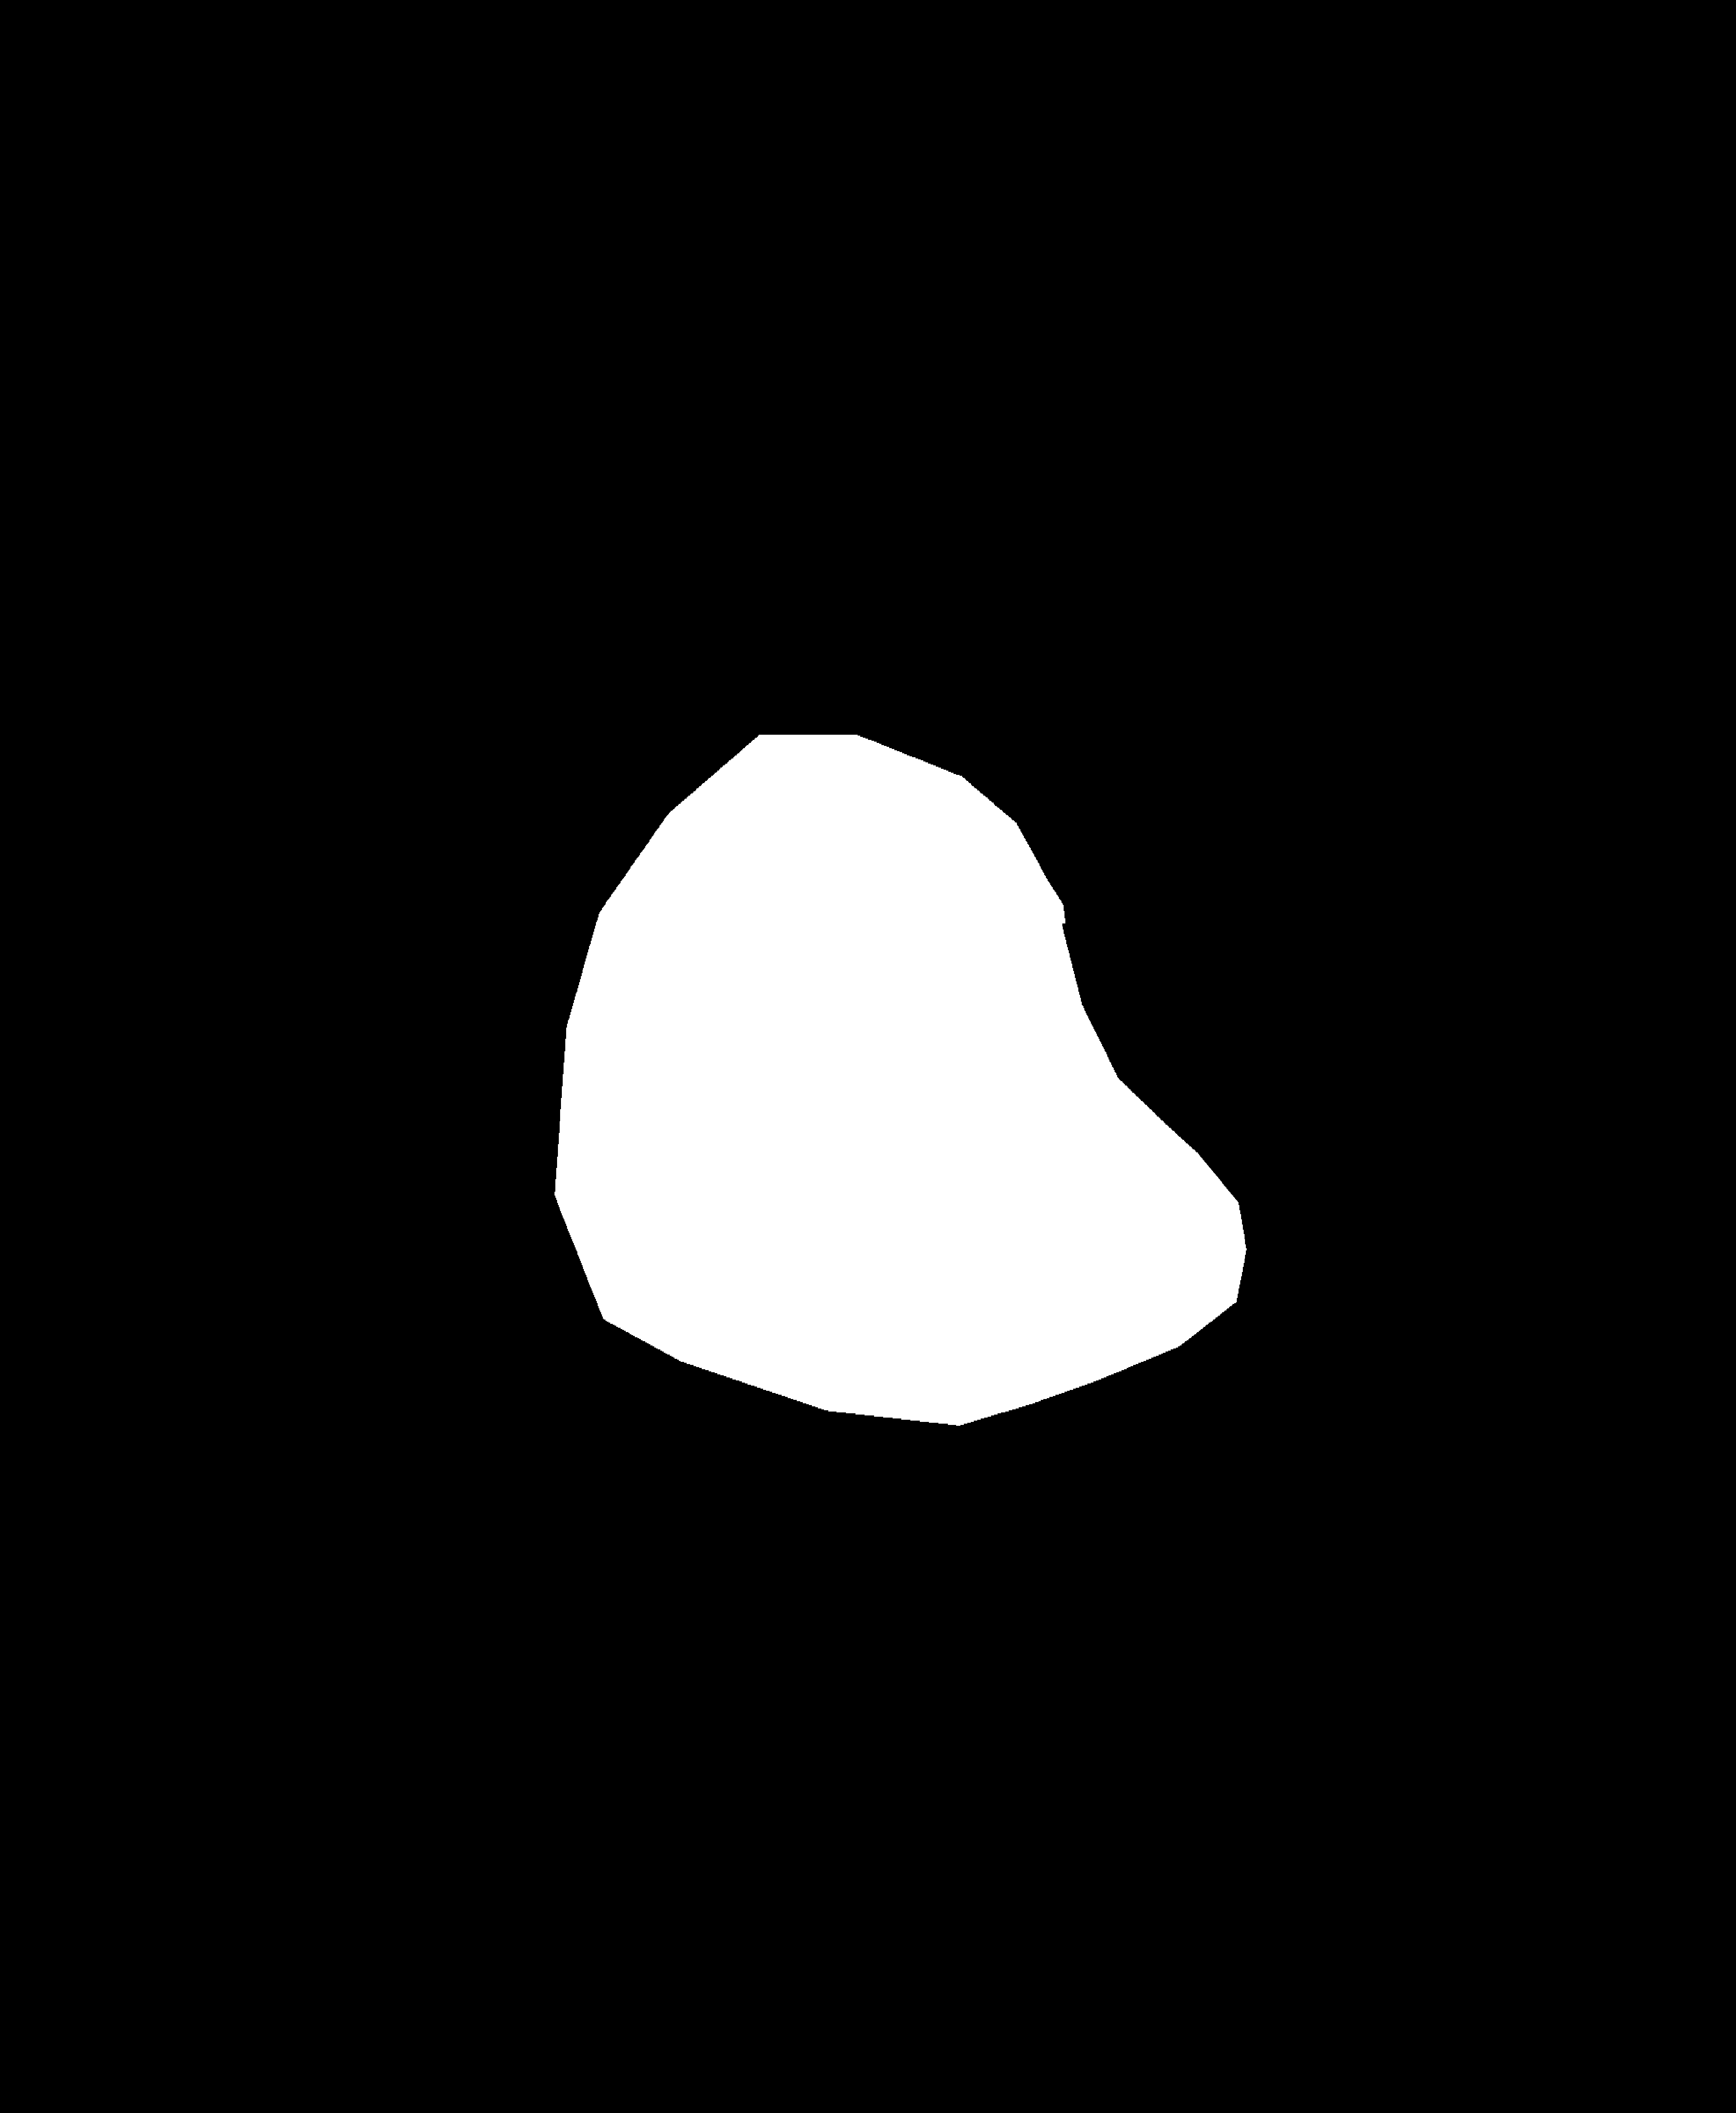heart: (628, 1109, 1341, 1469)
left_lung: (44, 237, 764, 1634)
right_lung: (915, 274, 1518, 1444)
